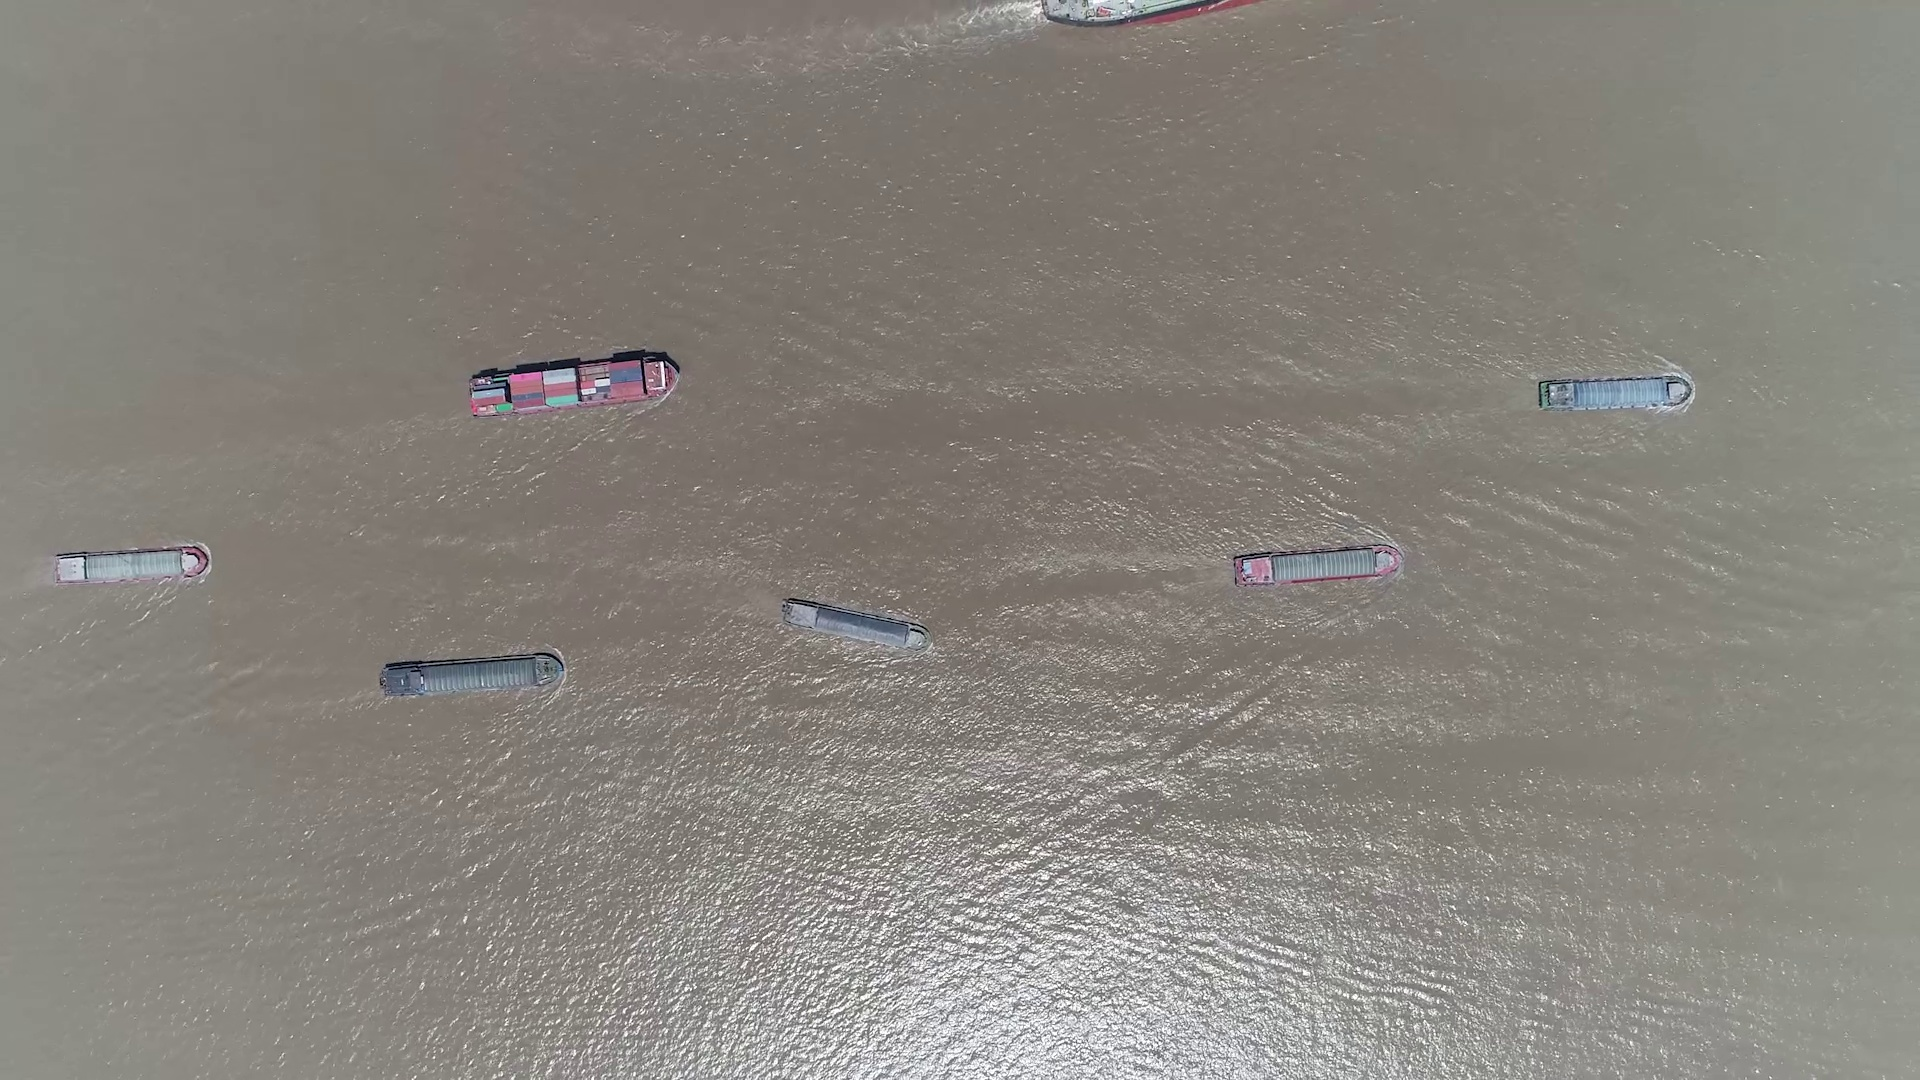ship: (468, 353, 680, 415), (380, 651, 564, 698), (781, 597, 928, 651), (1232, 545, 1402, 588), (51, 545, 208, 583), (1044, 3, 1258, 29), (1538, 378, 1691, 411)
